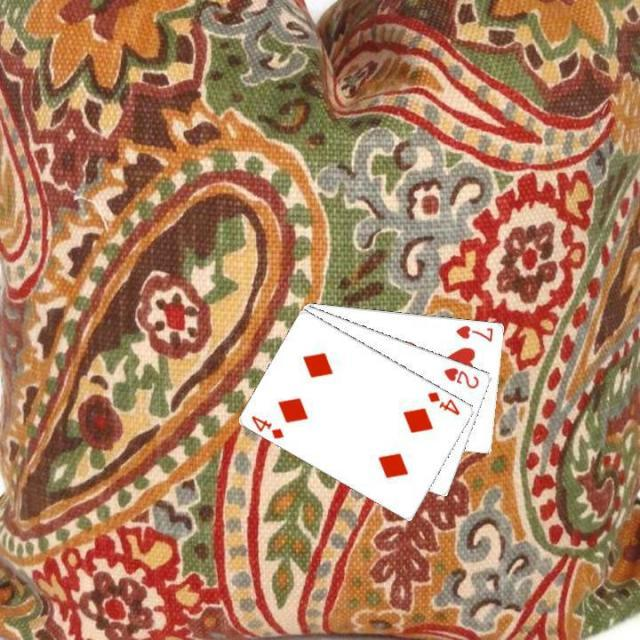2H: (440, 364, 481, 390)
4D: (424, 387, 462, 417), (248, 411, 286, 441)
7H: (452, 321, 496, 343)
